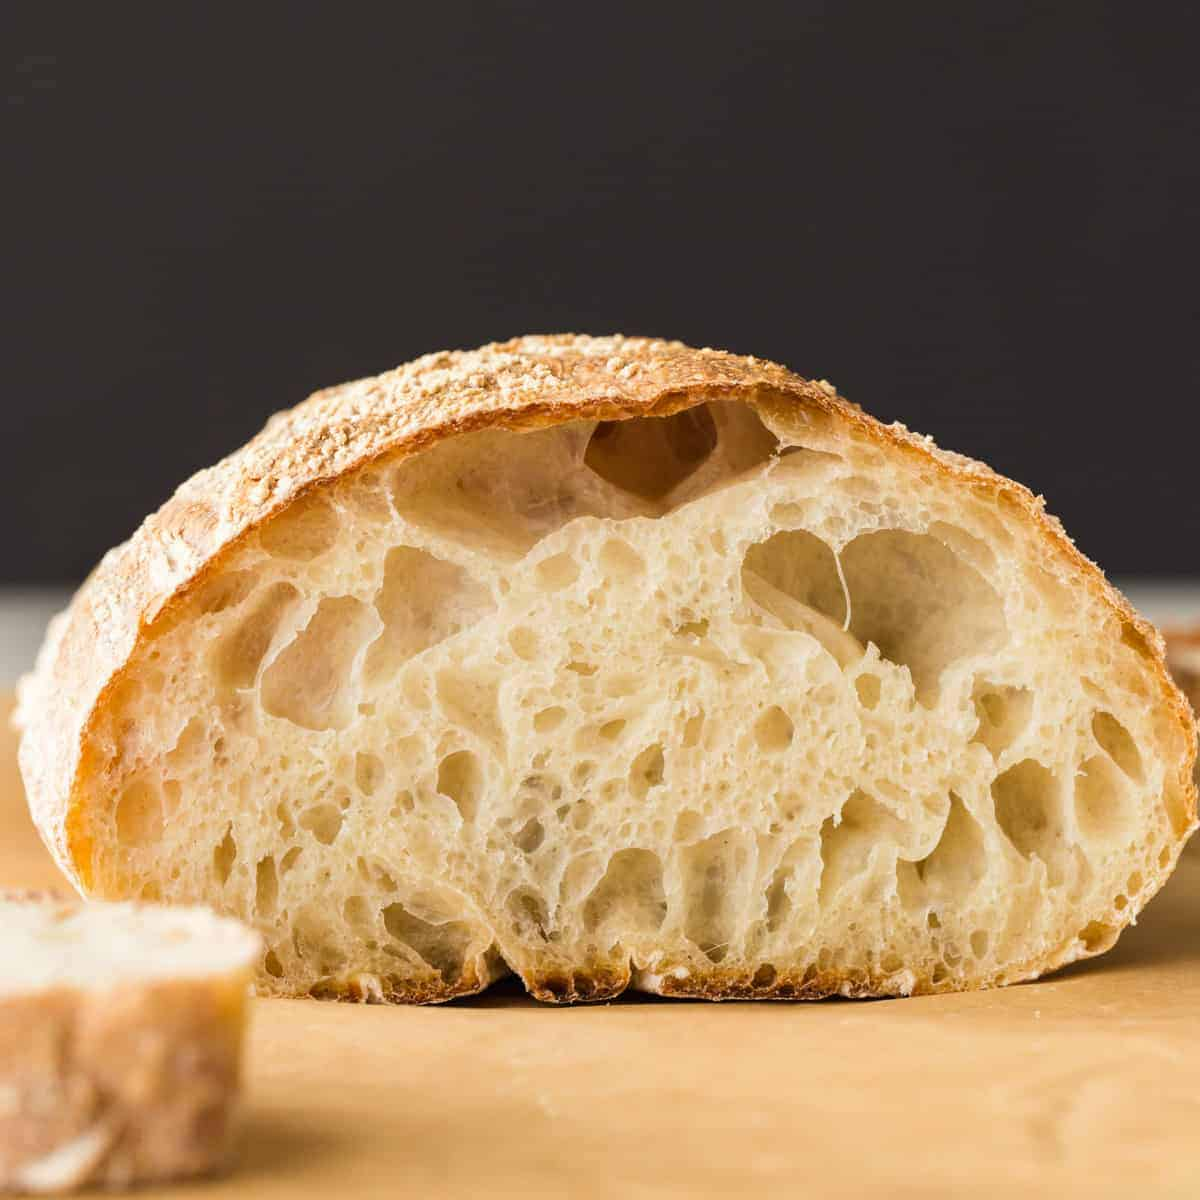Bread: (1, 258, 1174, 1034)
